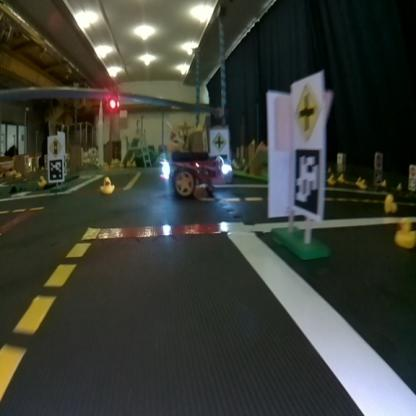duckie: (394, 212, 415, 253), (99, 172, 118, 197)
duckiebot: (164, 143, 236, 205)
